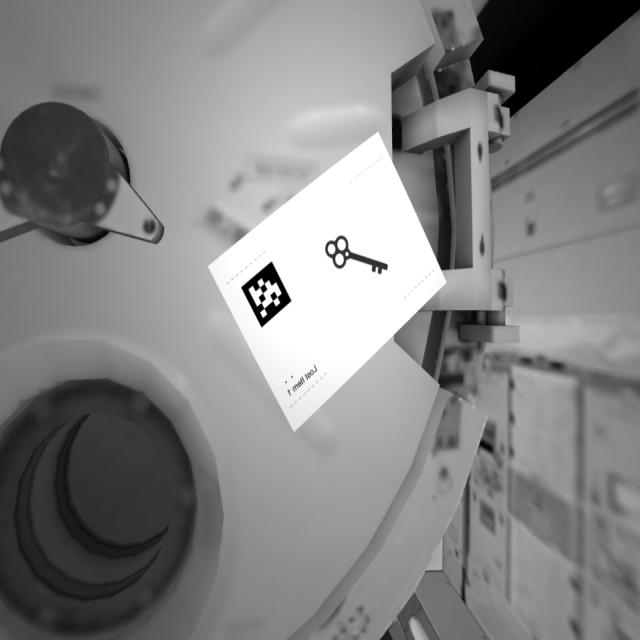key: (321, 231, 398, 293)
